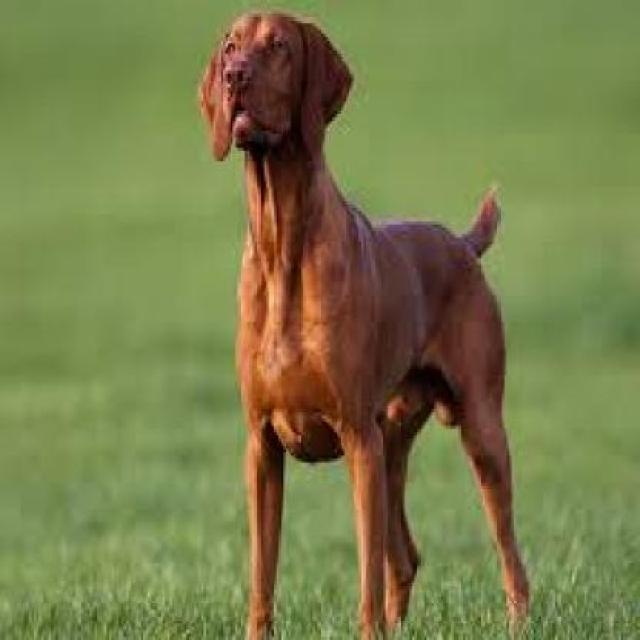animals: (196, 6, 533, 616)
